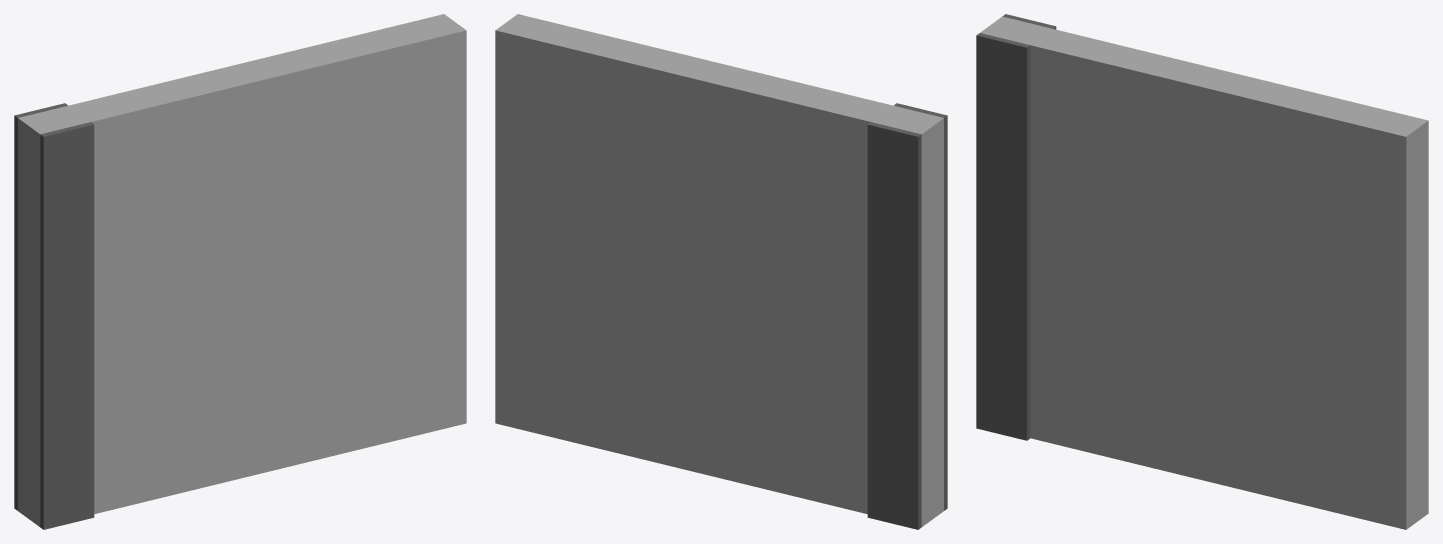
Rendered from Operating_room_wall1-3.fbx.
3 renders of one model, left to right at view 1: azimuth 30°, elevation 25°; view 2: azimuth 150°, elevation 25°; view 3: azimuth 330°, elevation 25°, orthographic.
Visible parts, largest first — view 1: Operating room wall1-3.002, Operating room wall1-3.000; view 2: Operating room wall1-3.002, Operating room wall1-3.000; view 3: Operating room wall1-3.002, Operating room wall1-3.000.
Part boxes in pixels (x1,y1,x2,y2): Operating room wall1-3.002: (69,14,466,513); Operating room wall1-3.000: (14,103,94,529); Operating room wall1-3.002: (495,14,892,513); Operating room wall1-3.000: (867,103,947,529); Operating room wall1-3.002: (1030,29,1428,529); Operating room wall1-3.000: (976,14,1056,440).
Size of the model in its own units: 14.3 by 12.6 by 1.7.
